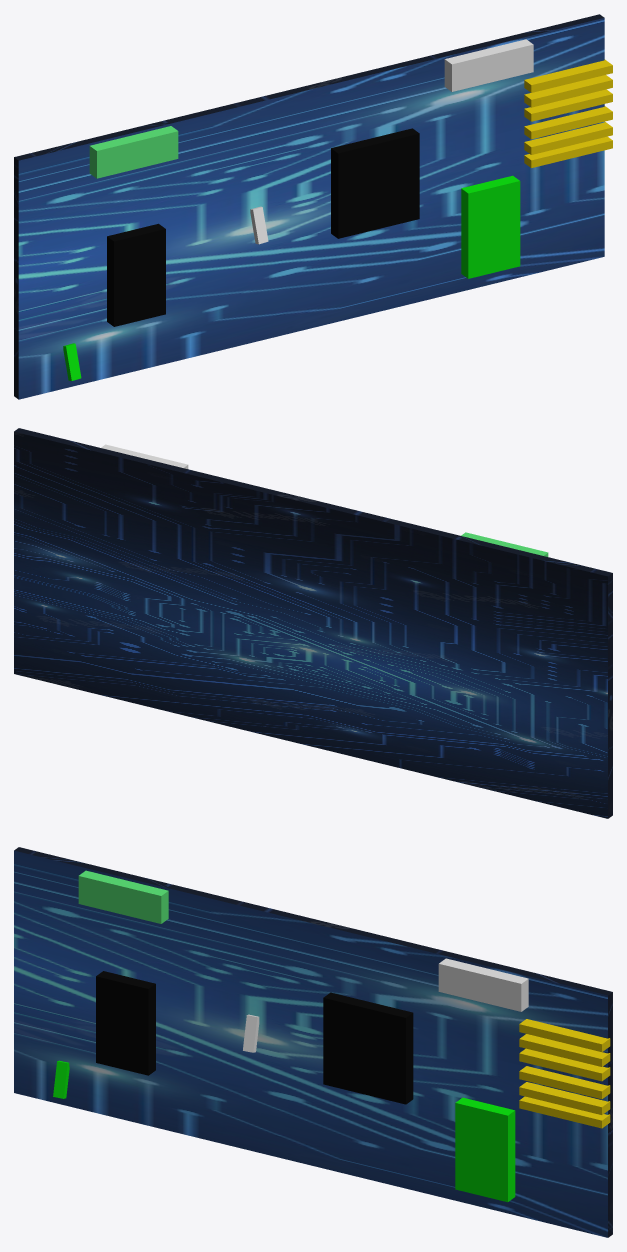
The model's file is Circuito.fbx.
3 renders of one model, top to bottom at view 1: azimuth 30°, elevation 25°; view 2: azimuth 150°, elevation 25°; view 3: azimuth 330°, elevation 25°, orthographic.
Visible parts, largest first — view 1: Plane, MicroChif, MicroChif.005, MicroChif.001, MicroChif.006, MicroChif.002, MicroChif.007, MicroChif.010, MicroChif.011, MicroChif.008, MicroChif.009, MicroChif.012; view 2: Plane; view 3: Plane, MicroChif, MicroChif.005, MicroChif.001, MicroChif.002, MicroChif.006, MicroChif.010, MicroChif.007, MicroChif.011, MicroChif.008, MicroChif.009, MicroChif.012.
Boxes of the visible parts, <box> form: Plane: <box>14,14,604,399</box>; MicroChif: <box>331,128,419,238</box>; MicroChif.005: <box>461,175,520,278</box>; MicroChif.001: <box>107,223,165,326</box>; MicroChif.006: <box>444,39,533,91</box>; MicroChif.002: <box>89,126,178,178</box>; MicroChif.007: <box>524,59,612,92</box>; MicroChif.010: <box>524,106,612,139</box>; MicroChif.011: <box>524,122,612,154</box>; MicroChif.008: <box>524,75,612,107</box>; MicroChif.009: <box>524,89,612,121</box>; MicroChif.012: <box>524,136,612,167</box>; Plane: <box>14,428,612,818</box>; Plane: <box>14,847,612,1237</box>; MicroChif: <box>323,992,413,1104</box>; MicroChif.005: <box>455,1097,515,1202</box>; MicroChif.001: <box>96,971,155,1075</box>; MicroChif.002: <box>78,870,168,923</box>; MicroChif.006: <box>438,958,528,1011</box>; MicroChif.010: <box>519,1066,610,1099</box>; MicroChif.007: <box>519,1019,610,1051</box>; MicroChif.011: <box>519,1082,610,1114</box>; MicroChif.008: <box>519,1034,610,1066</box>; MicroChif.009: <box>519,1048,610,1081</box>; MicroChif.012: <box>519,1096,610,1128</box>.
Bounding box in the file's own units: 20.23 × 7.87 × 0.7213.
